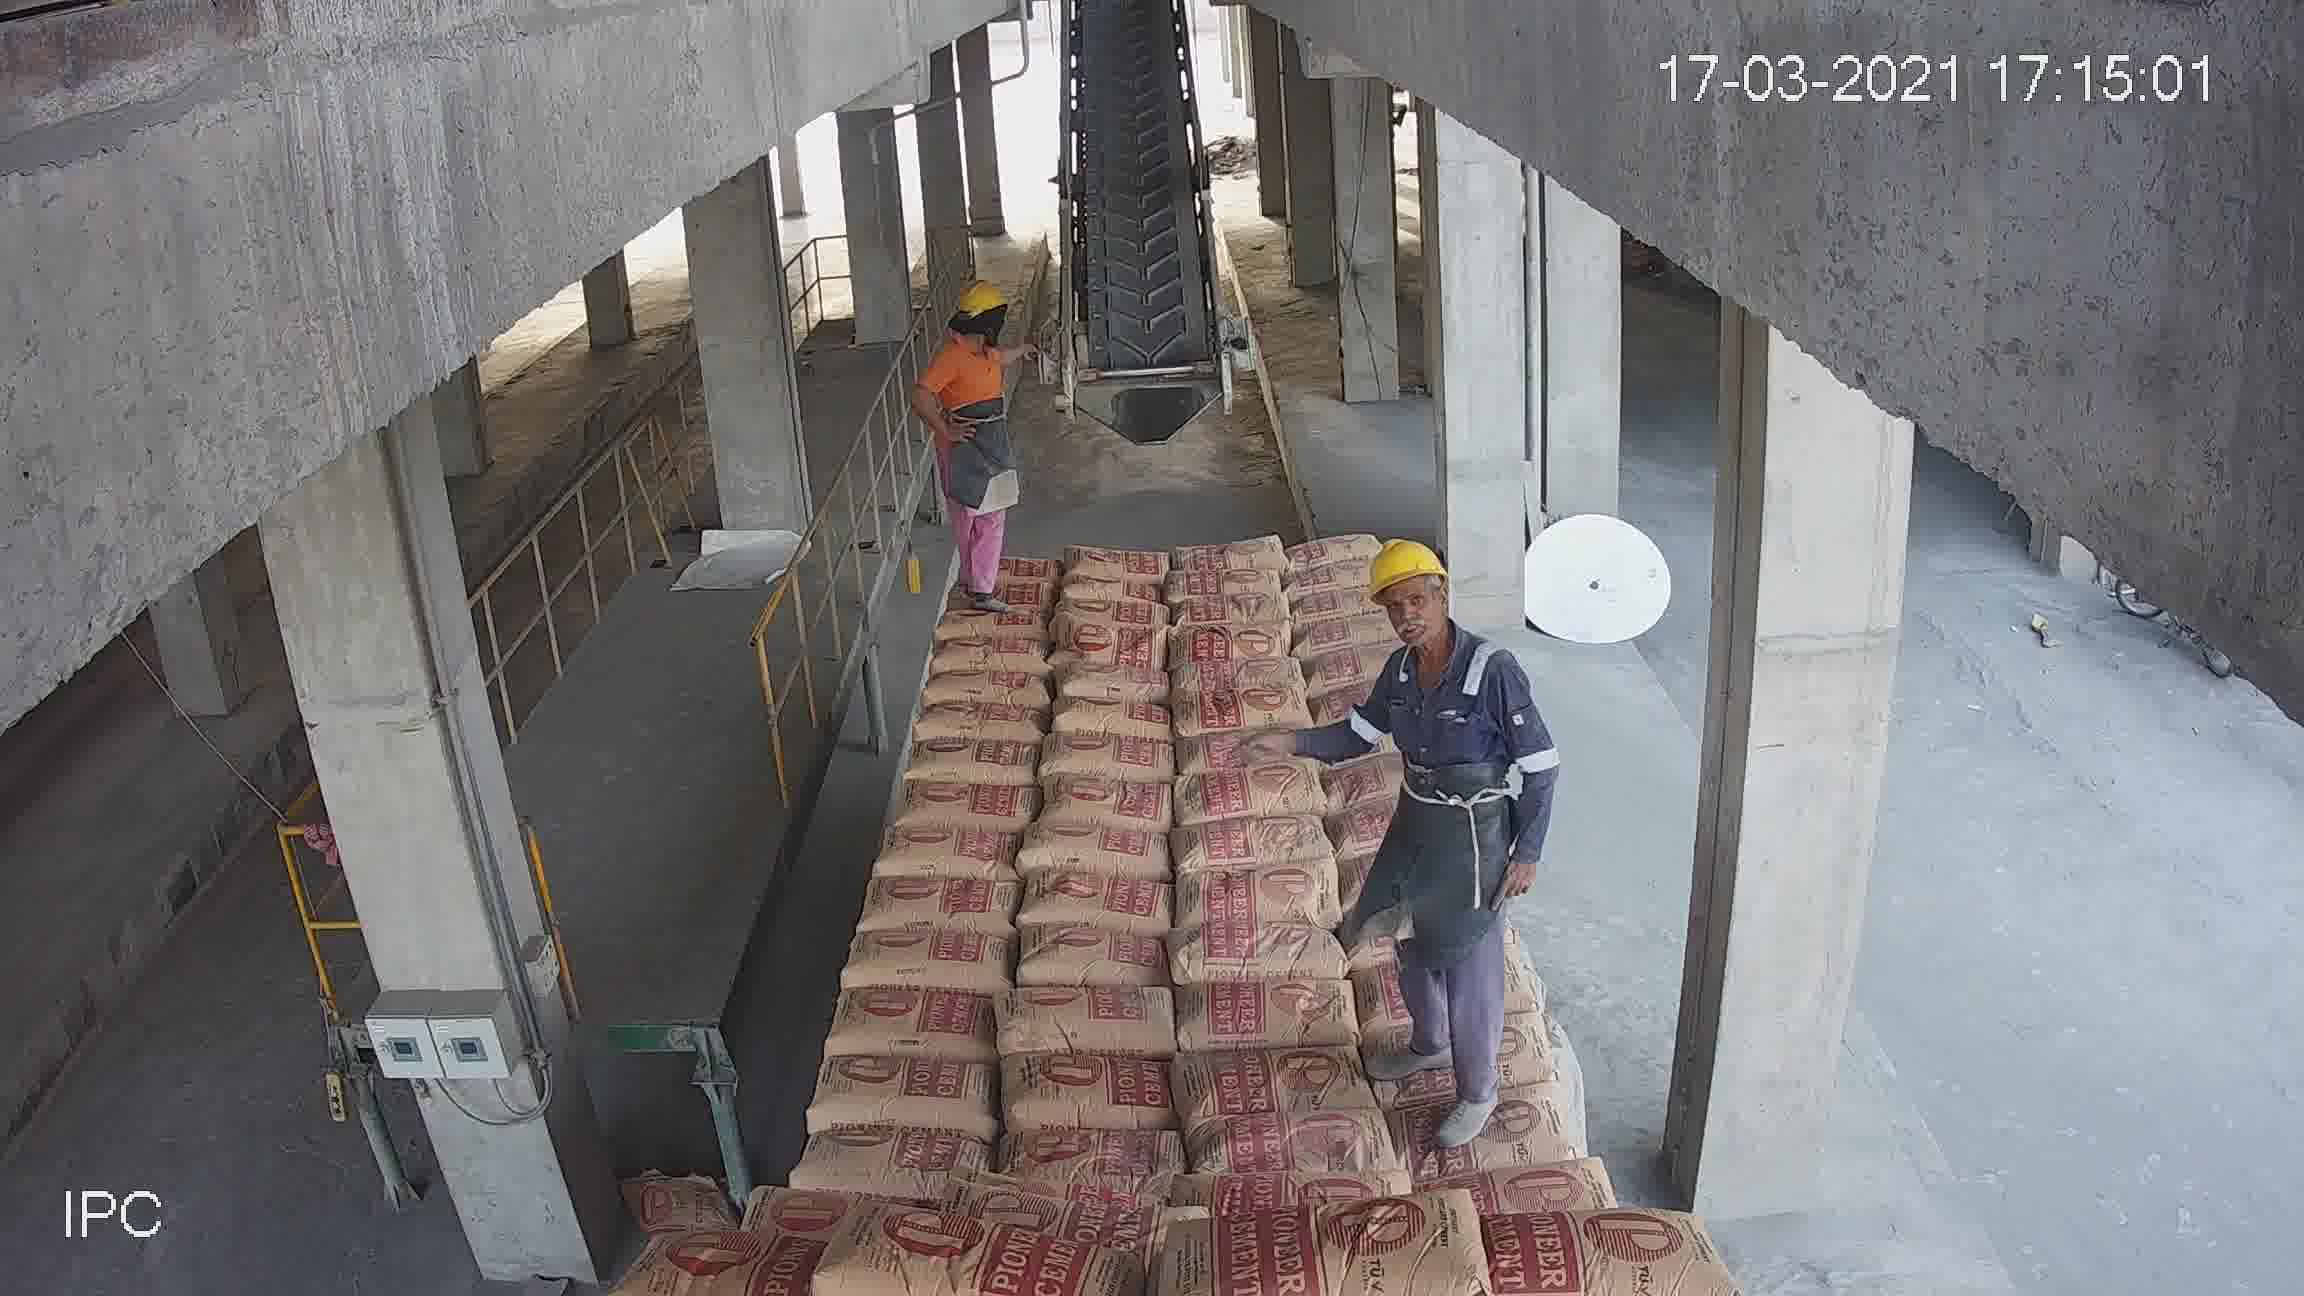bag_h: (1199, 1207, 1499, 1294), (809, 1218, 1124, 1294), (1467, 1207, 1726, 1290), (1378, 1074, 1563, 1184), (1185, 1043, 1374, 1133), (1203, 1109, 1405, 1192), (1173, 970, 1375, 1051), (805, 1055, 1006, 1135), (635, 1222, 853, 1294), (1008, 1051, 1188, 1131), (1000, 987, 1187, 1063), (829, 980, 1006, 1059), (853, 870, 1029, 945), (995, 1120, 1185, 1187), (1176, 924, 1353, 991), (790, 1127, 991, 1185), (1435, 1161, 1616, 1226), (1176, 859, 1336, 932), (839, 927, 1013, 994), (1177, 756, 1336, 828), (1021, 813, 1169, 885), (1176, 810, 1329, 877), (1021, 872, 1185, 934), (1014, 934, 1176, 991), (1041, 772, 1180, 836), (902, 734, 1051, 791), (892, 782, 1041, 836), (908, 696, 1057, 745), (1169, 731, 1309, 782), (873, 832, 1014, 881), (910, 661, 1052, 709), (1168, 652, 1305, 701), (1063, 609, 1168, 673), (1177, 687, 1313, 734), (923, 635, 1067, 676), (1051, 741, 1179, 786), (1060, 657, 1176, 707), (1055, 699, 1169, 747), (1169, 620, 1288, 665), (1065, 540, 1176, 584), (1298, 616, 1397, 663), (1285, 530, 1389, 574), (1275, 559, 1381, 600), (1291, 642, 1397, 684), (1169, 567, 1287, 603), (930, 604, 1051, 639), (1173, 592, 1291, 627), (1294, 606, 1399, 646), (1059, 598, 1176, 633), (1168, 529, 1293, 560), (1055, 573, 1166, 606)
belt: (1054, 27, 1214, 421)
